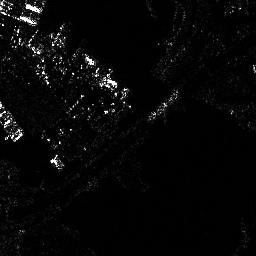ship: (147, 87, 179, 121)
